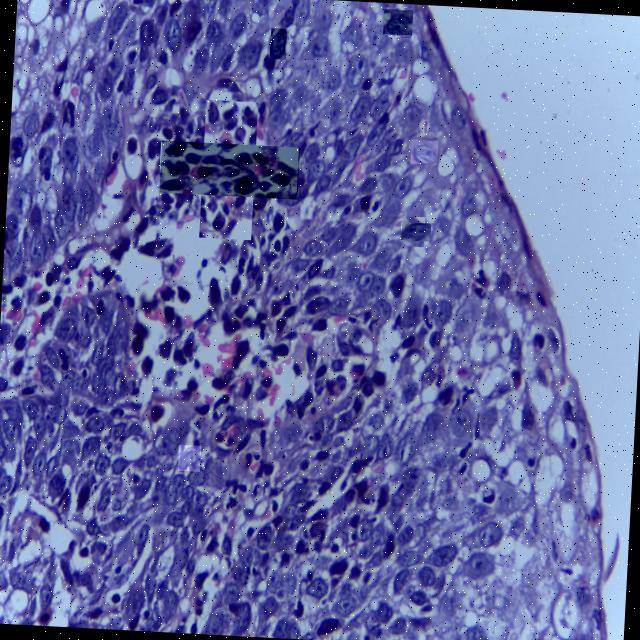Multiple Nucleol: (382, 10, 412, 34), (410, 140, 436, 164), (400, 222, 429, 241), (177, 446, 199, 471), (270, 29, 286, 59)
Nuclear Hyperchromatism: (159, 146, 296, 196)
